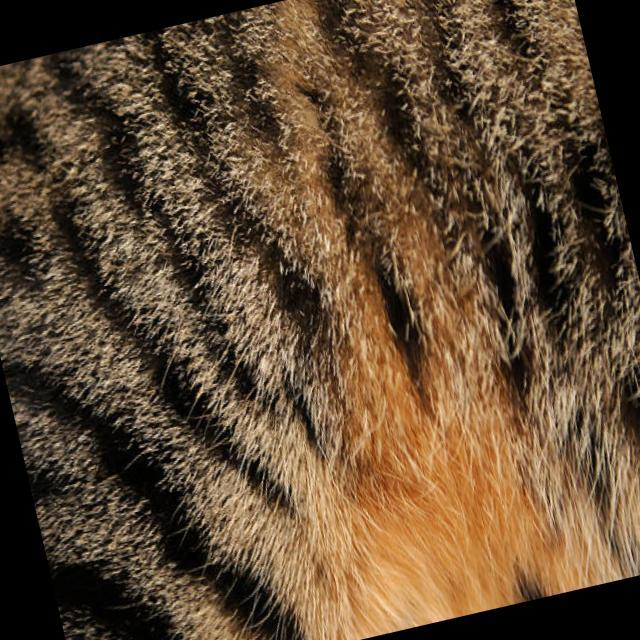Healthy skin: (220, 0, 535, 469), (0, 19, 290, 442), (438, 0, 640, 373), (39, 405, 348, 640), (337, 405, 640, 615)
